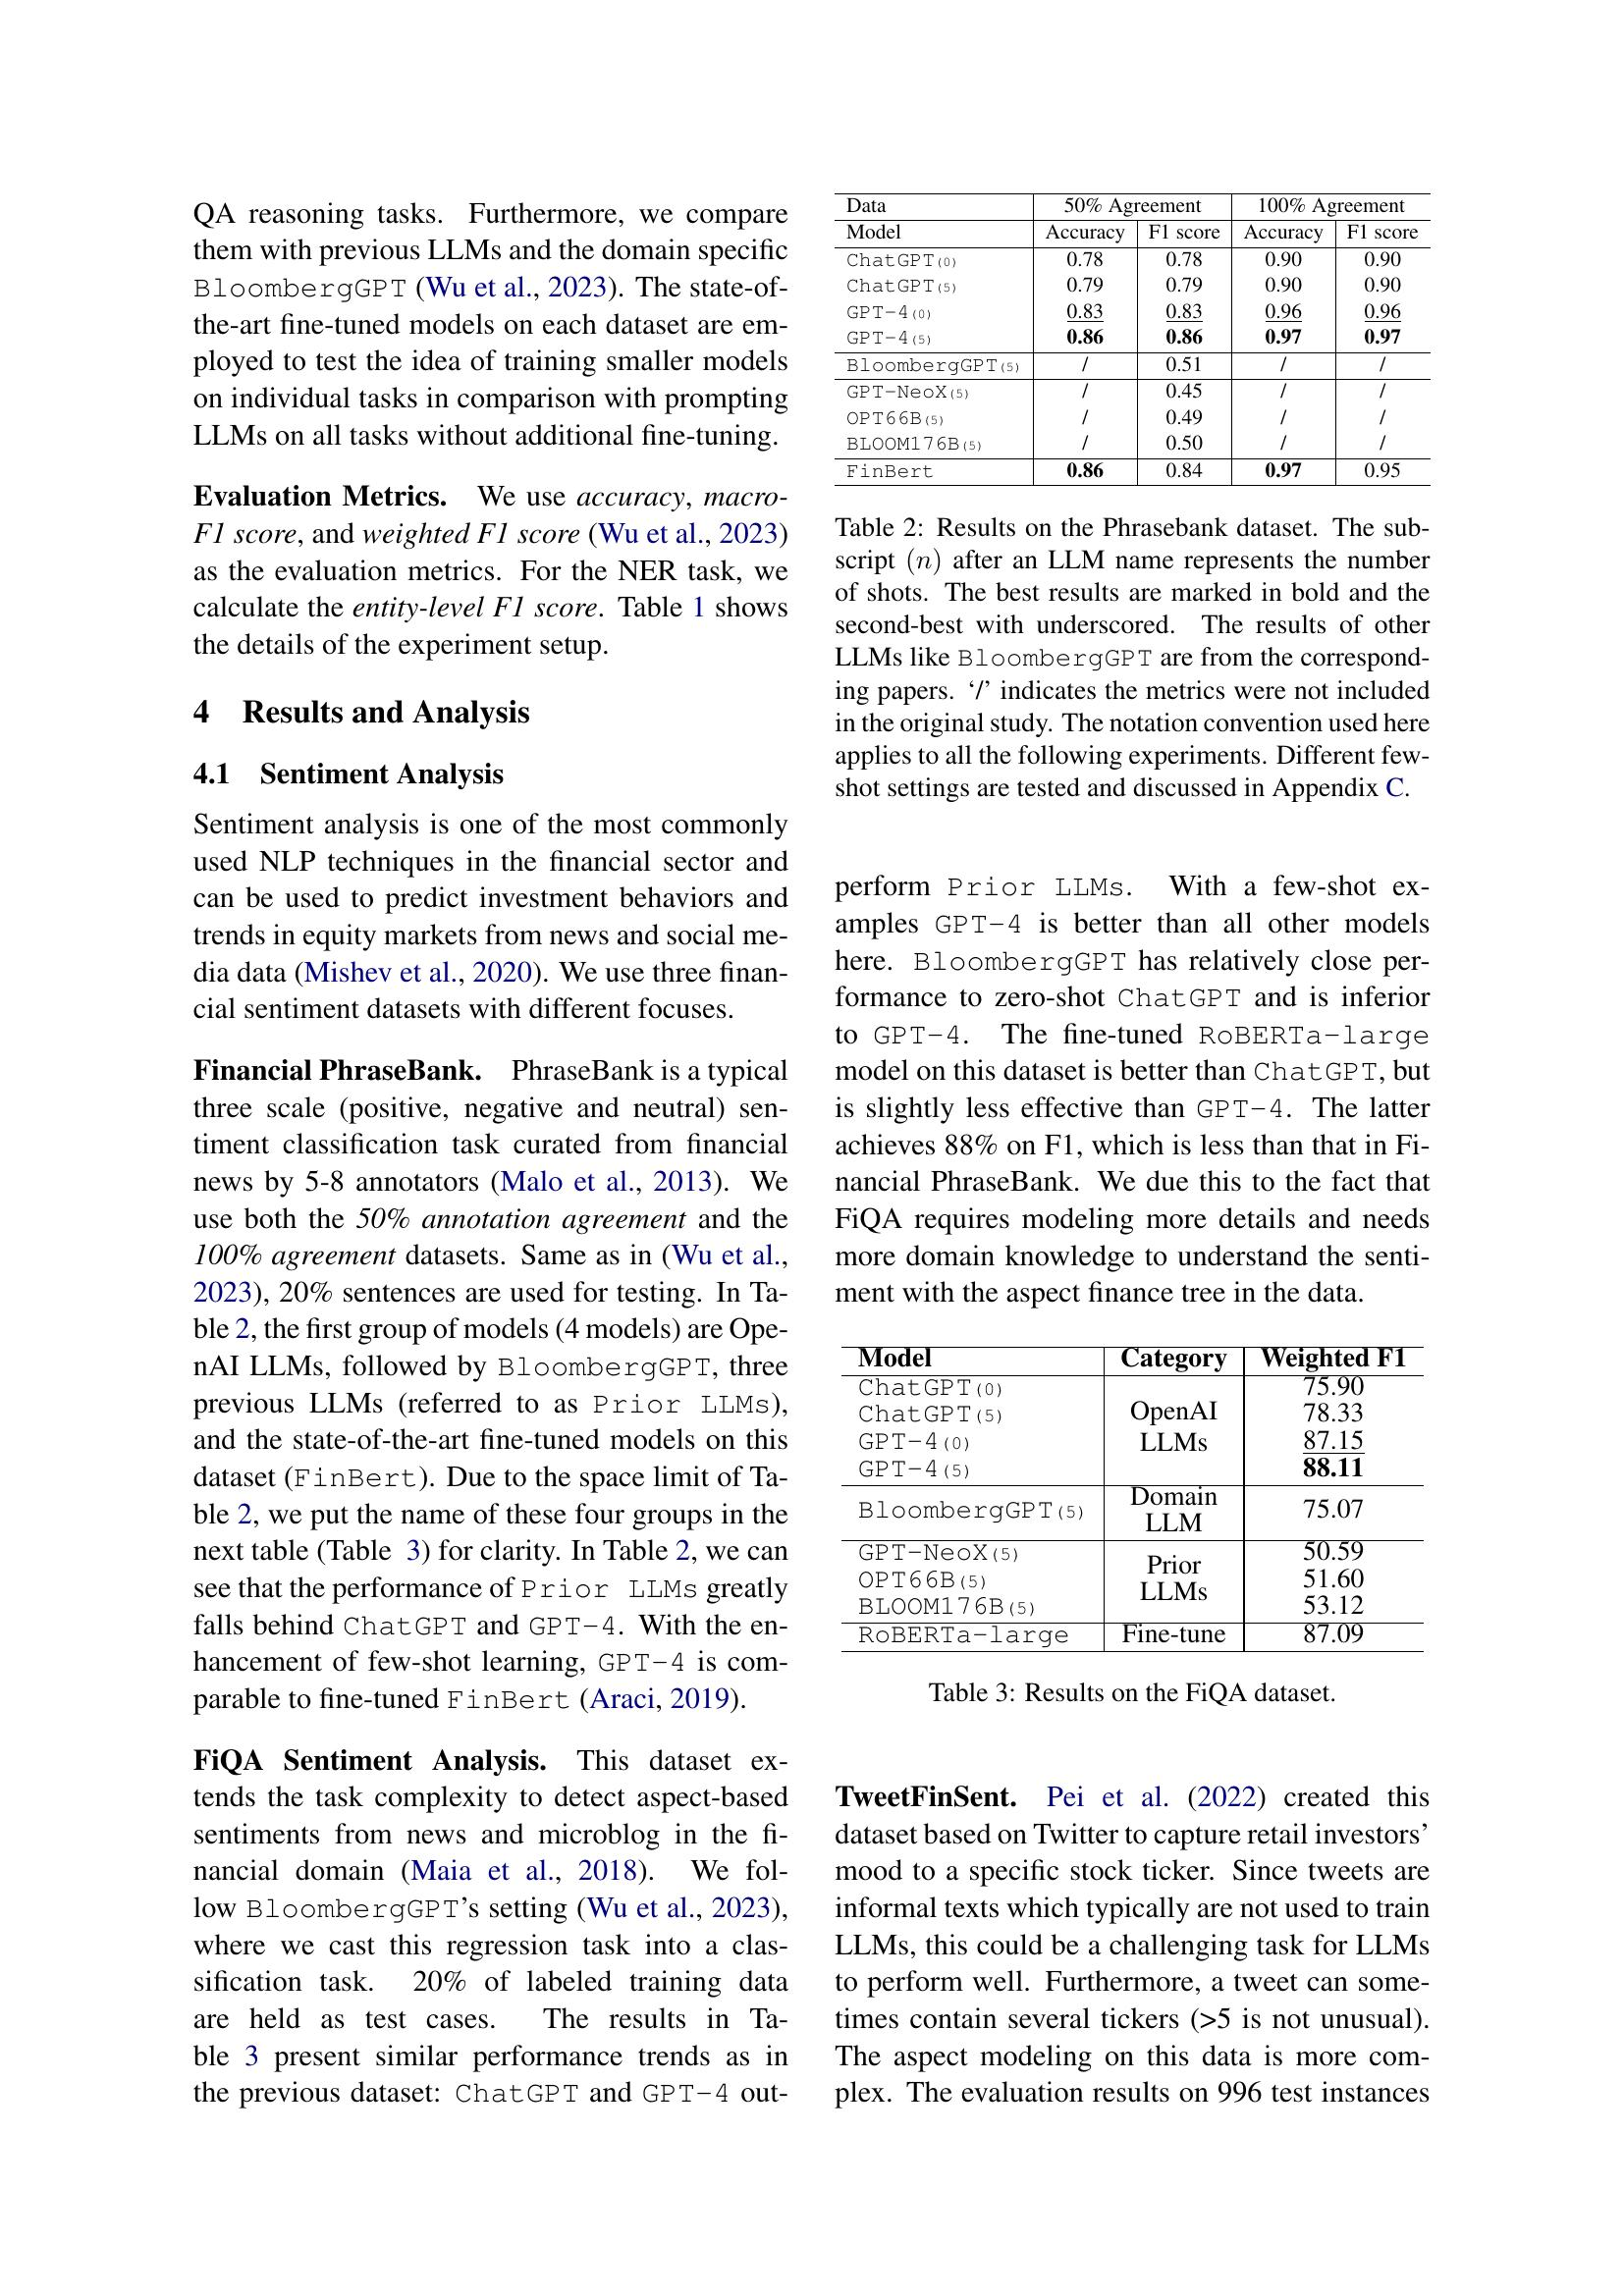table: (826, 184, 1438, 812), (837, 1337, 1432, 1716)
text: (181, 1049, 796, 1723), (181, 190, 796, 668), (826, 866, 1438, 1314), (181, 1739, 796, 2119), (181, 687, 796, 1029), (826, 1774, 1438, 2115)
